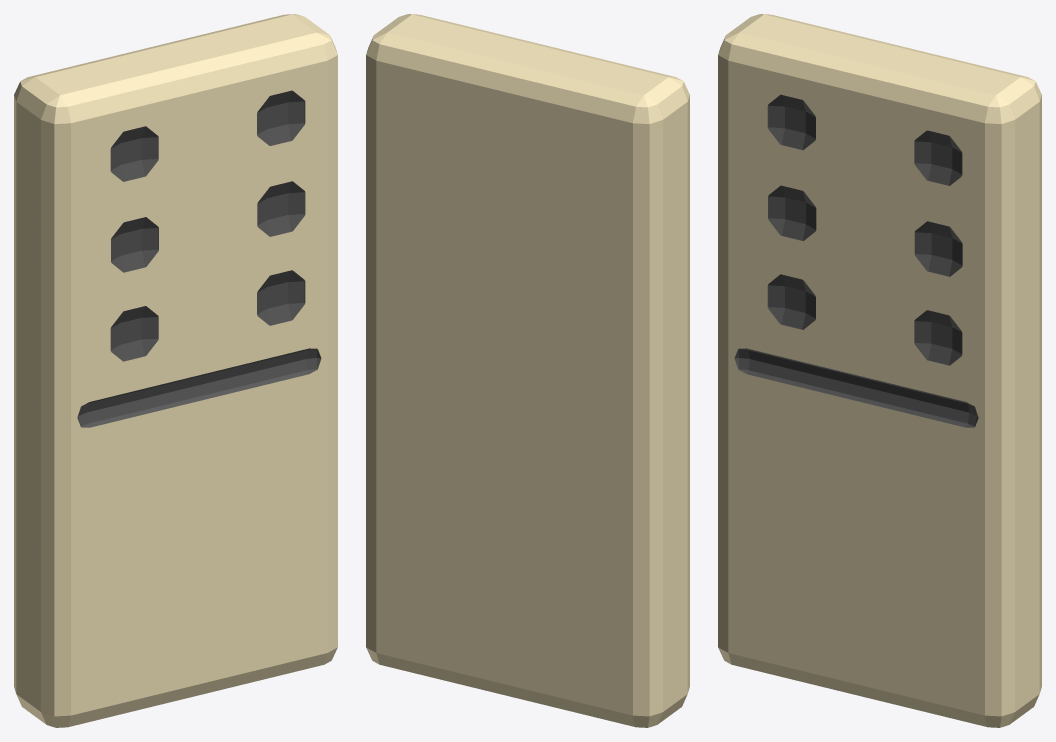
The model's file is dominoes 6x0.fbx.
3 views of the same model, side by side, from view 1: azimuth 30°, elevation 25°; view 2: azimuth 150°, elevation 25°; view 3: azimuth 330°, elevation 25° (orthographic).
Parts seen in each view (by area): view 1: Boole_28; view 2: Boole_28; view 3: Boole_28.
Boxes of the visible parts, x1=… form: Boole_28: x1=14, y1=14, x2=337, y2=727; Boole_28: x1=366, y1=14, x2=689, y2=727; Boole_28: x1=718, y1=14, x2=1041, y2=727.
Bounding box in the file's own units: 200 × 410 × 55.02.
